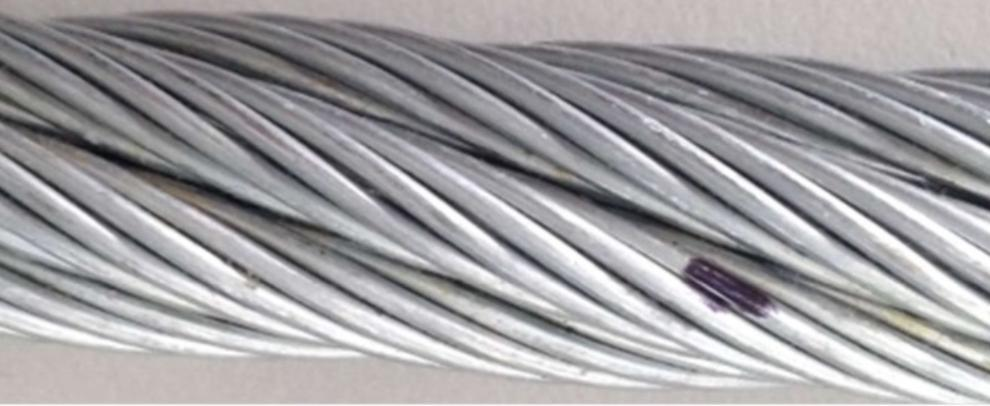thunderbolt: (662, 240, 798, 330)
